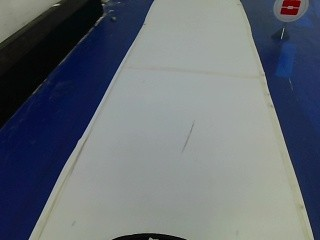company: (273, 0, 306, 22)
